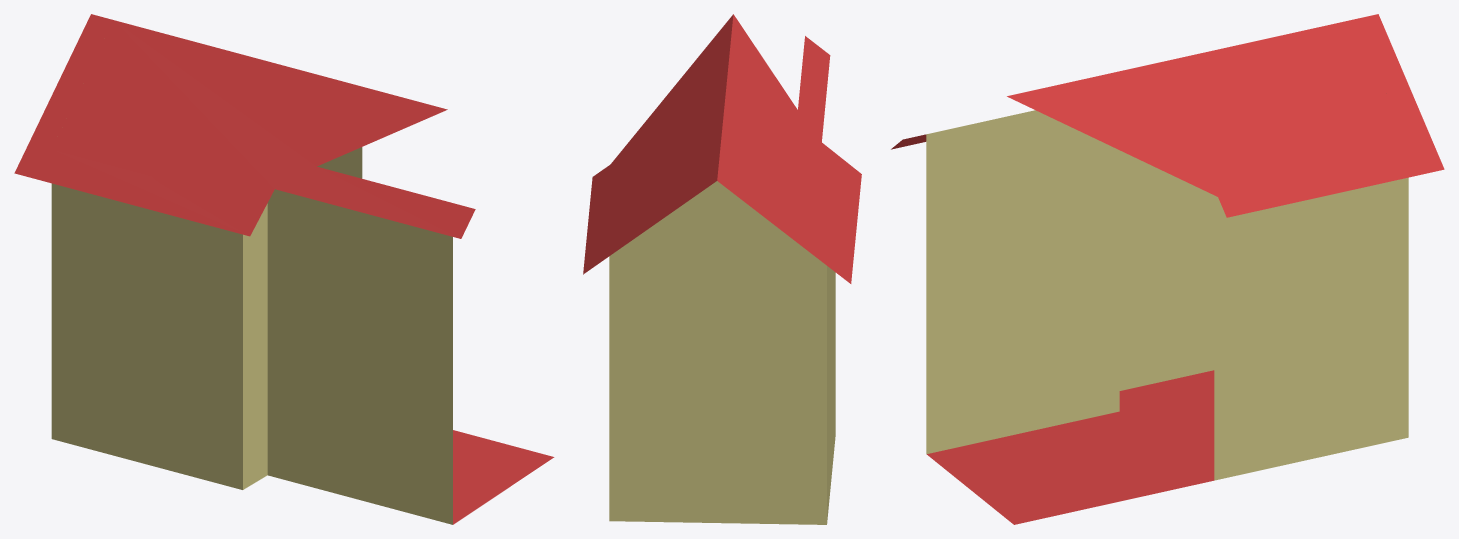
The picture shows the model from 3 angles, left to right: view 1: azimuth 30°, elevation 25°; view 2: azimuth 150°, elevation 25°; view 3: azimuth 270°, elevation 25°; orthographic projection. The views are drawn at different scales.
Bounding box in the file's own units: 8.35 × 10.33 × 7.71.
